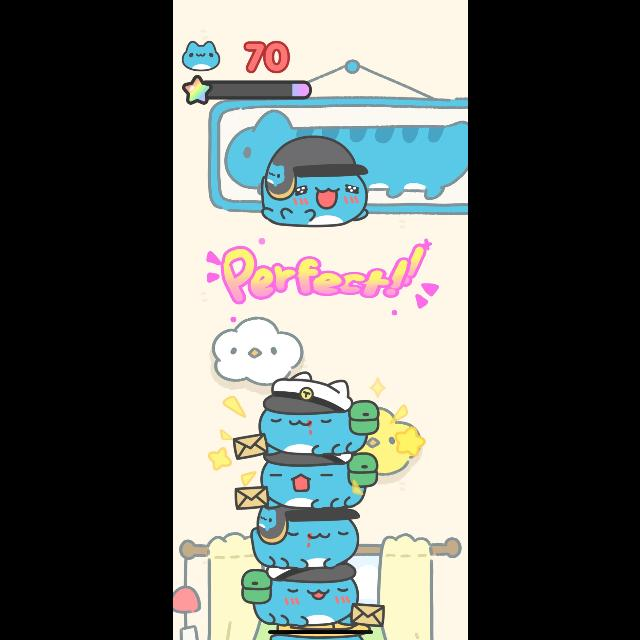capoo: (226, 364, 378, 458), (258, 136, 370, 227), (236, 564, 386, 626), (232, 456, 376, 508), (246, 508, 362, 570)
